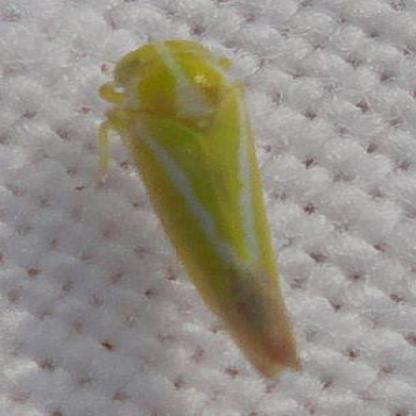green-leafhopper: (102, 30, 312, 387)
